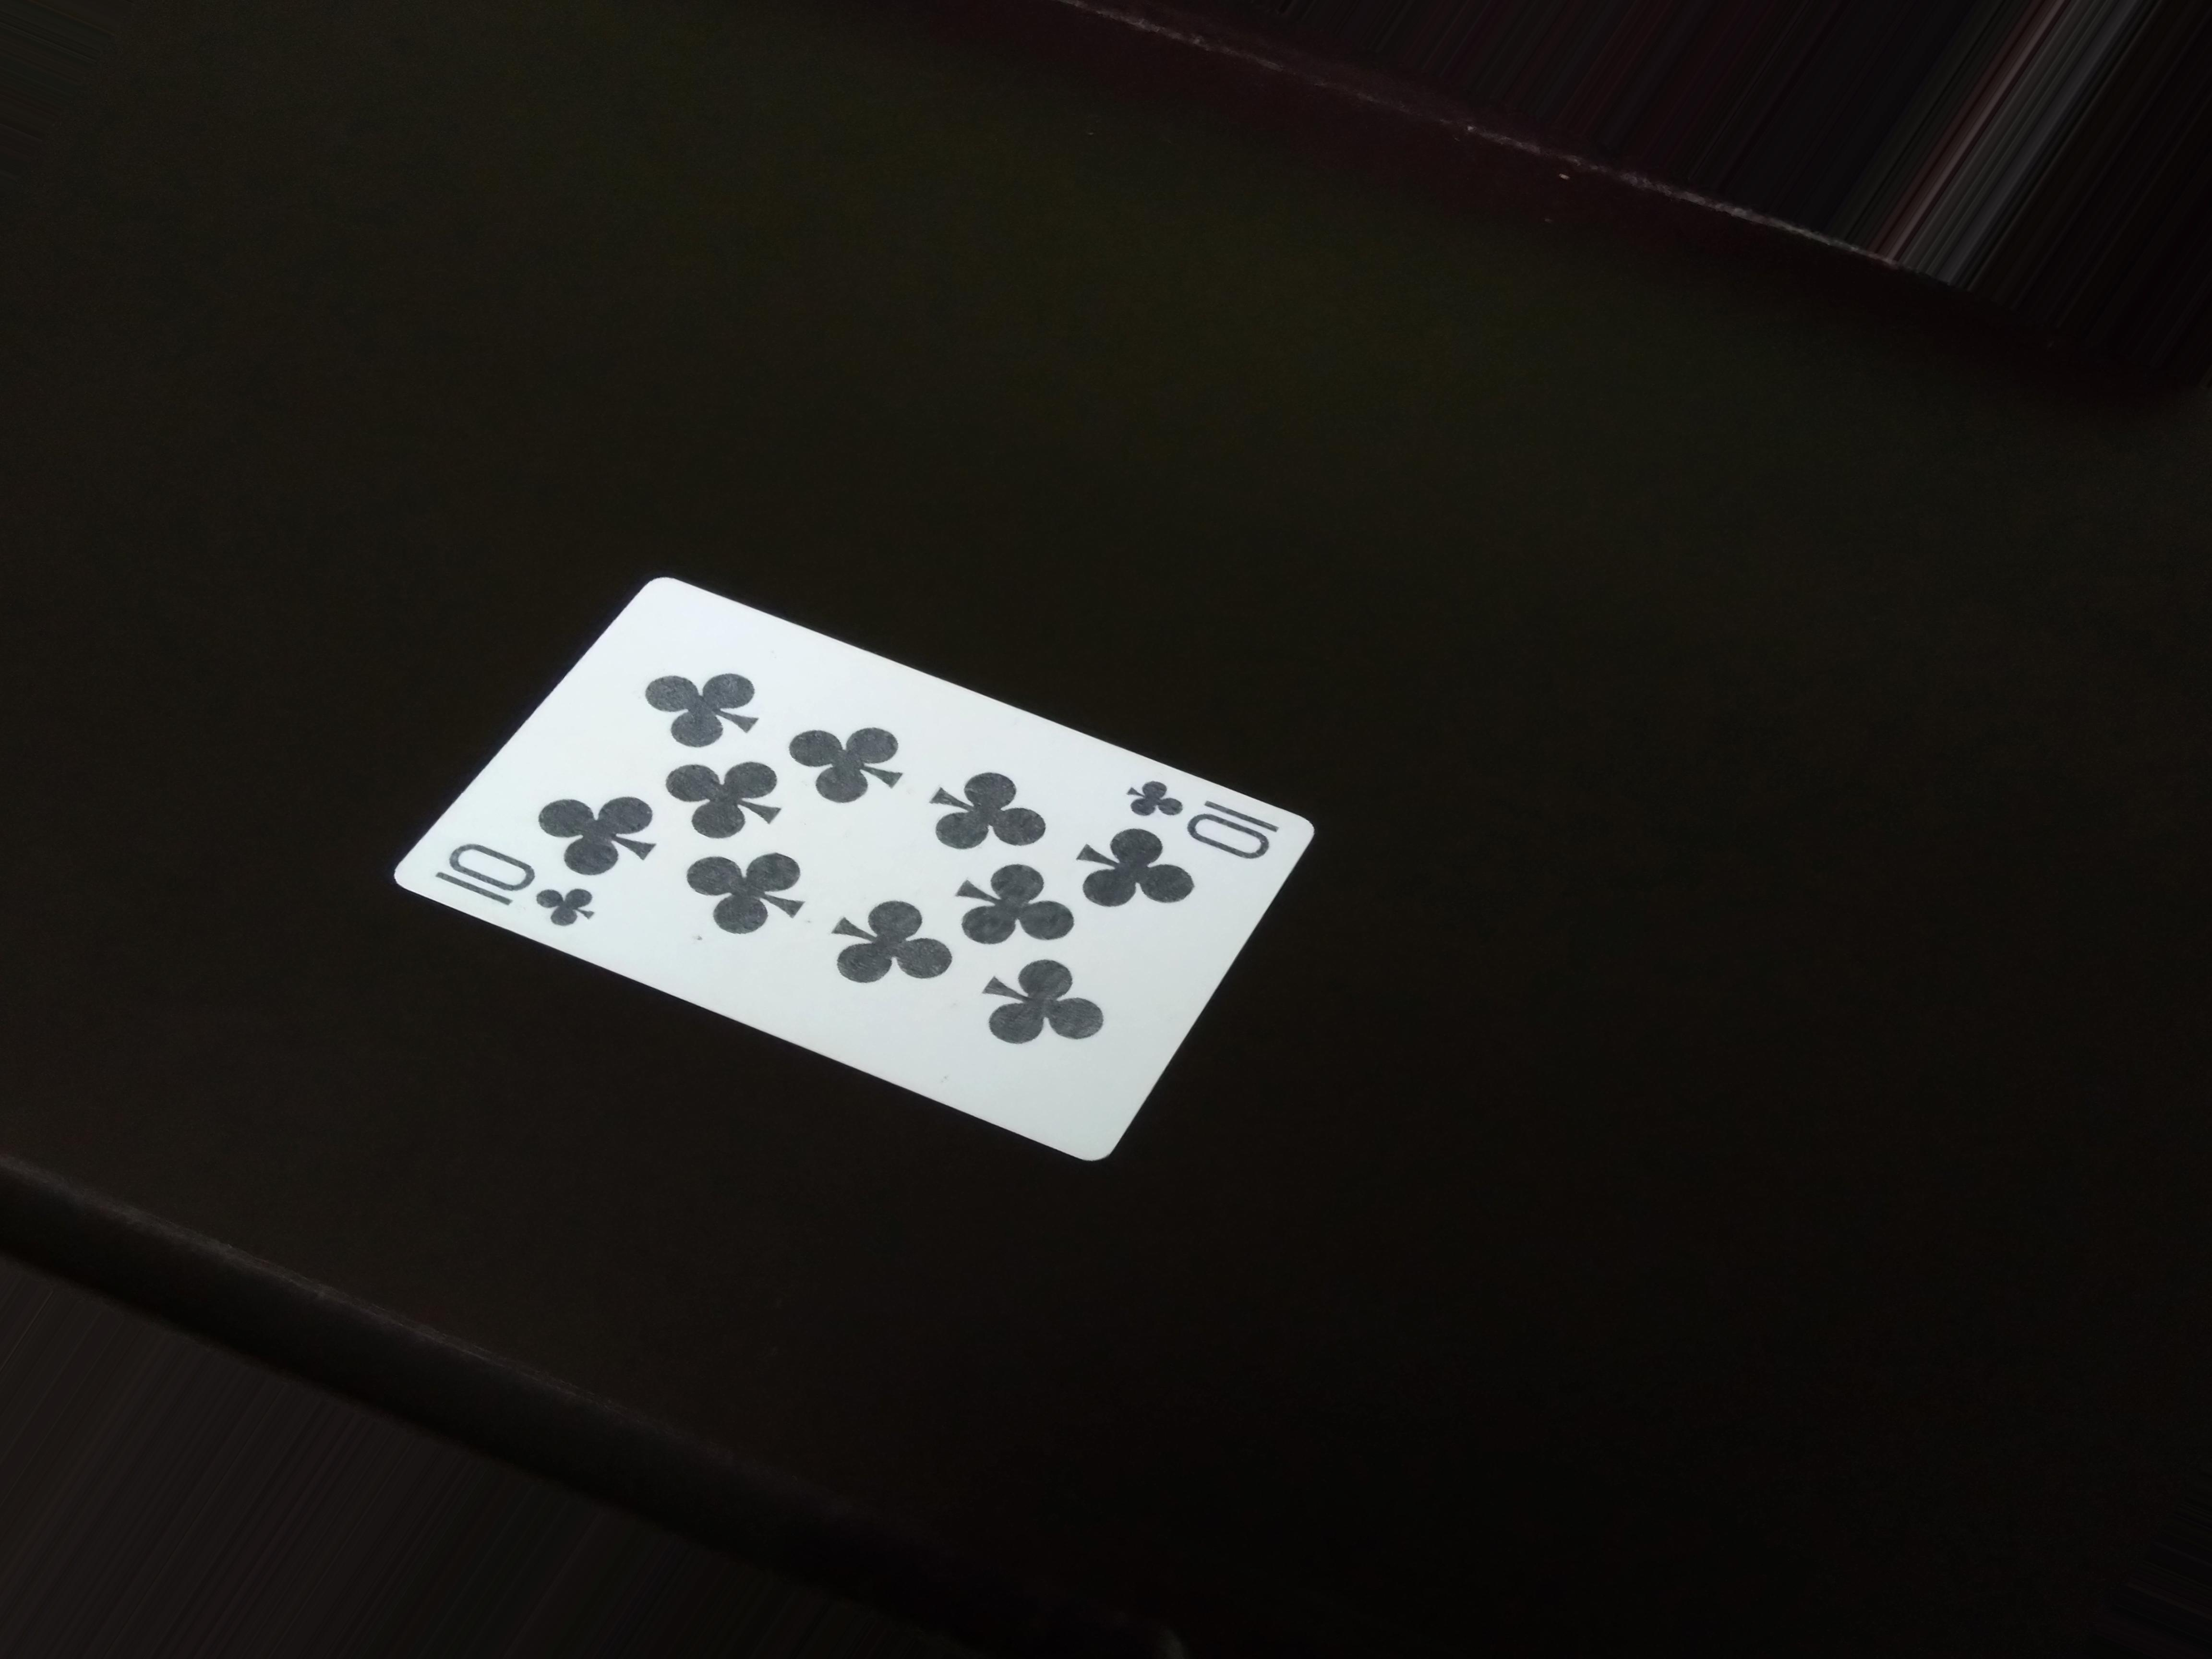10C: (1118, 770, 1287, 863)
